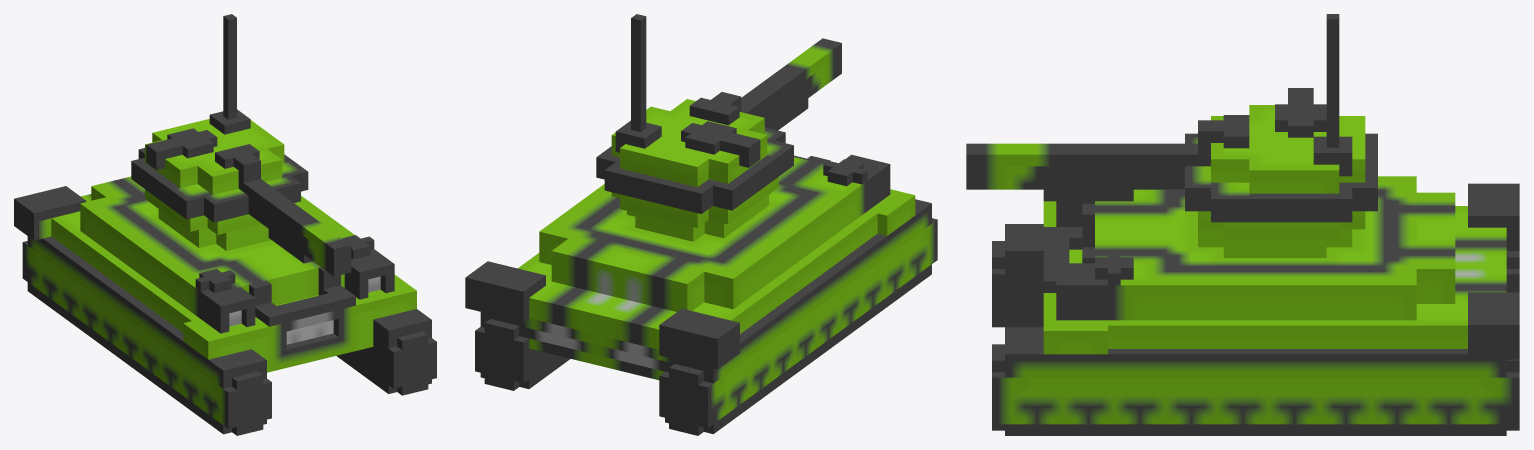
Rendered from Tank_0.fbx.
The picture shows the model from 3 angles, left to right: view 1: azimuth 30°, elevation 25°; view 2: azimuth 150°, elevation 25°; view 3: azimuth 270°, elevation 25°; orthographic projection. The views are drawn at different scales.
Visible parts, largest first — view 1: Matrix, Matrix_1; view 2: Matrix, Matrix_1; view 3: Matrix, Matrix_1.
Part boxes in pixels (x1=…): Matrix: x1=14, y1=176, x2=436, y2=435; Matrix_1: x1=131, y1=14, x2=351, y2=276; Matrix: x1=465, y1=154, x2=937, y2=435; Matrix_1: x1=596, y1=14, x2=841, y2=227; Matrix: x1=992, y1=176, x2=1519, y2=435; Matrix_1: x1=966, y1=14, x2=1377, y2=239.
Size of the model in its own units: 26 by 32 by 43.
